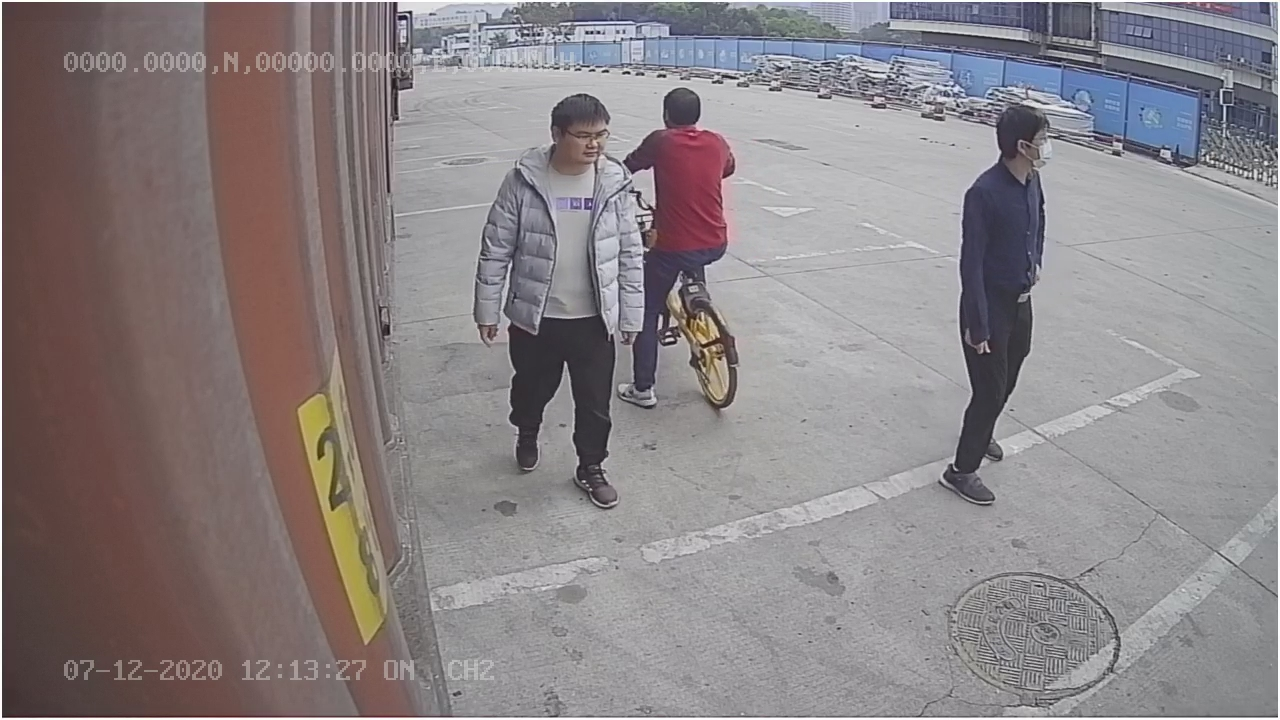person: (931, 101, 1060, 509)
